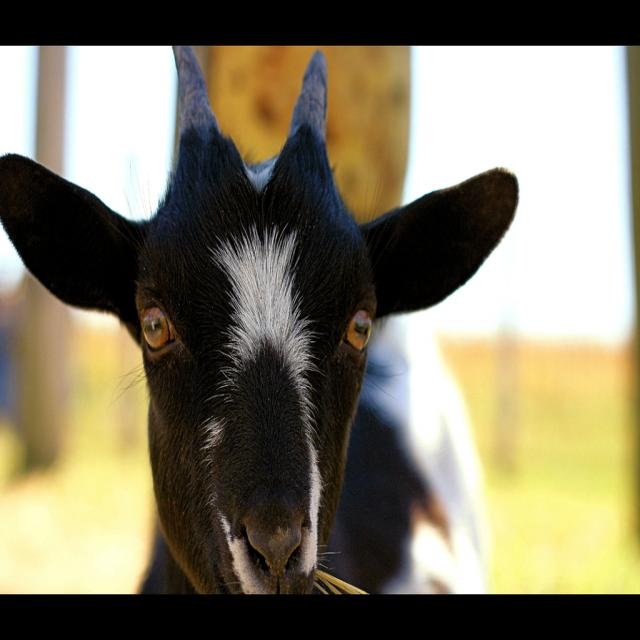Goat: (25, 58, 512, 603)
